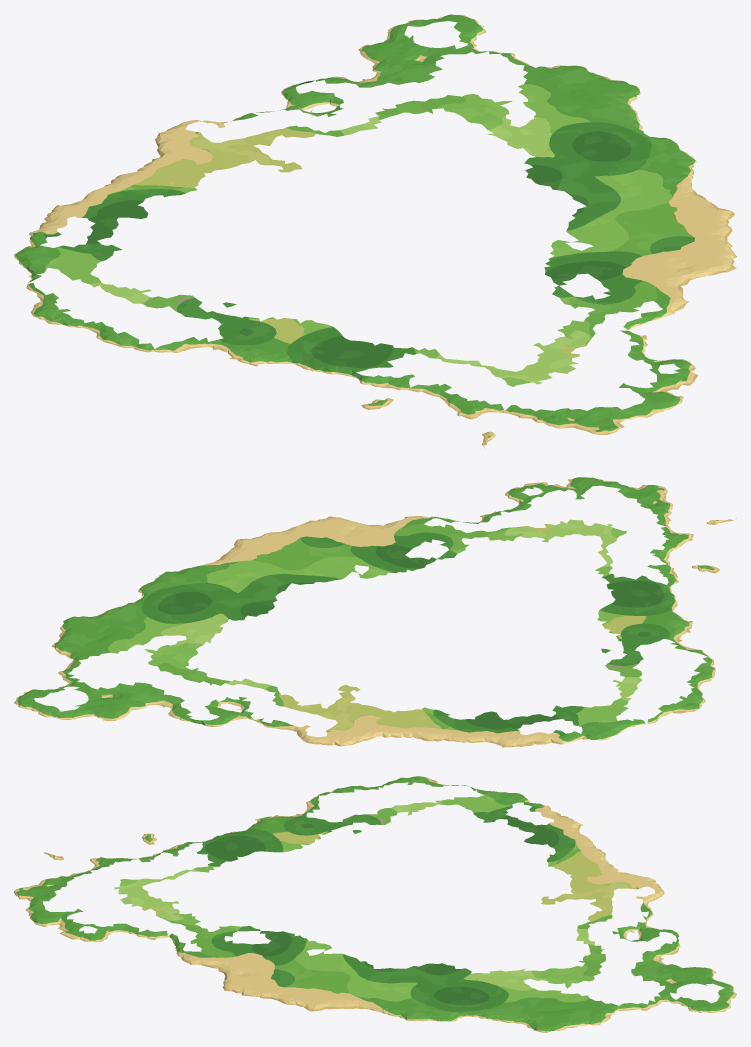
The model's file is Isl-hilly2-Ground.fbx.
The picture shows the model from 3 angles, top to bottom: view 1: azimuth 30°, elevation 25°; view 2: azimuth 150°, elevation 25°; view 3: azimuth 270°, elevation 25°; orthographic projection. The views are drawn at different scales.
Parts seen in each view (by area): view 1: Isl-hilly2-Ground-c22, Isl-hilly2-Ground-c21, Isl-hilly2-Ground-c11, Isl-hilly2-Ground-c12, Isl-hilly2-Ground-c10, Isl-hilly2-Ground-c20; view 2: Isl-hilly2-Ground-c22, Isl-hilly2-Ground-c21, Isl-hilly2-Ground-c12, Isl-hilly2-Ground-c11, Isl-hilly2-Ground-c10, Isl-hilly2-Ground-c20; view 3: Isl-hilly2-Ground-c22, Isl-hilly2-Ground-c21, Isl-hilly2-Ground-c12, Isl-hilly2-Ground-c11, Isl-hilly2-Ground-c20, Isl-hilly2-Ground-c10.
Boxes of the visible parts, x1,y1,x2,y2 form: Isl-hilly2-Ground-c22: [230, 15, 689, 186]; Isl-hilly2-Ground-c21: [533, 155, 736, 371]; Isl-hilly2-Ground-c11: [33, 288, 568, 409]; Isl-hilly2-Ground-c12: [14, 120, 294, 315]; Isl-hilly2-Ground-c10: [455, 400, 629, 448]; Isl-hilly2-Ground-c20: [619, 358, 697, 419]; Isl-hilly2-Ground-c22: [14, 576, 349, 730]; Isl-hilly2-Ground-c21: [159, 500, 578, 602]; Isl-hilly2-Ground-c12: [293, 686, 699, 747]; Isl-hilly2-Ground-c11: [555, 520, 719, 708]; Isl-hilly2-Ground-c10: [618, 485, 736, 542]; Isl-hilly2-Ground-c20: [505, 477, 626, 503]; Isl-hilly2-Ground-c22: [417, 901, 729, 1032]; Isl-hilly2-Ground-c21: [109, 901, 420, 1021]; Isl-hilly2-Ground-c12: [417, 776, 664, 903]; Isl-hilly2-Ground-c11: [111, 776, 420, 901]; Isl-hilly2-Ground-c20: [26, 901, 114, 942]; Isl-hilly2-Ground-c10: [14, 852, 112, 902].
Bounding box in the file's own units: 103 × 0.4899 × 123.
